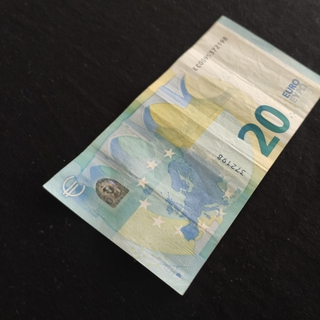20EUROBack: (42, 15, 320, 296)
